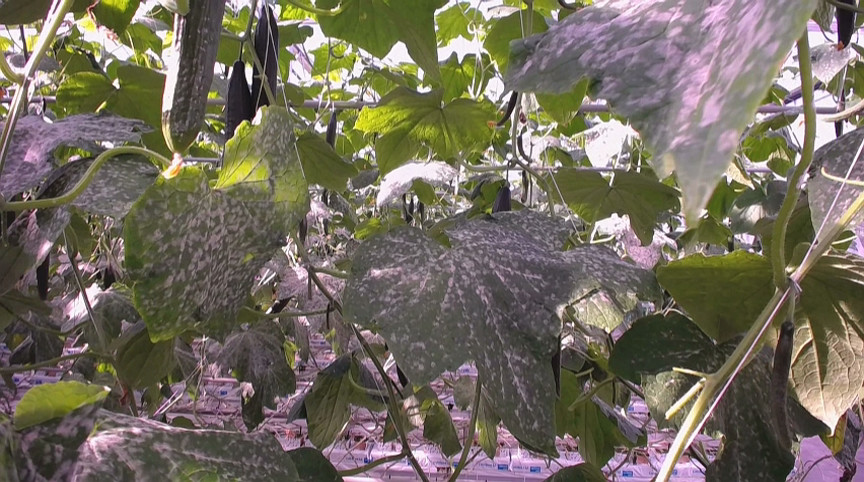cucumber: (164, 1, 225, 152), (254, 6, 276, 111), (224, 60, 249, 138), (837, 1, 857, 48)
